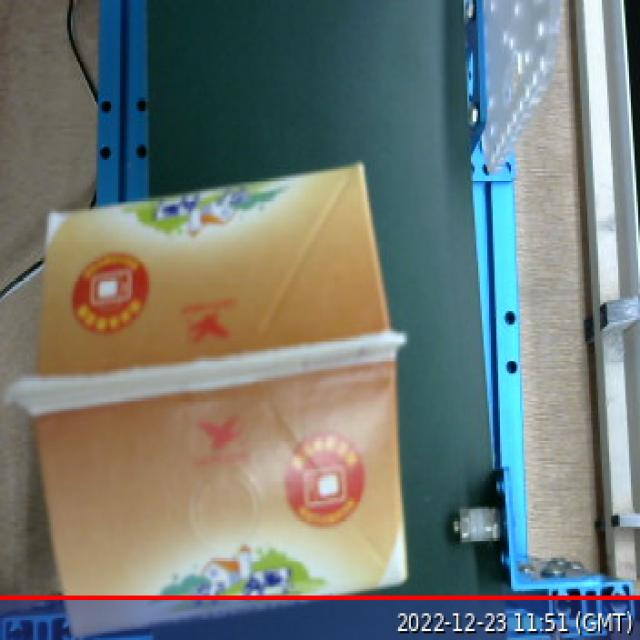non_white_jug: (8, 146, 423, 640)
